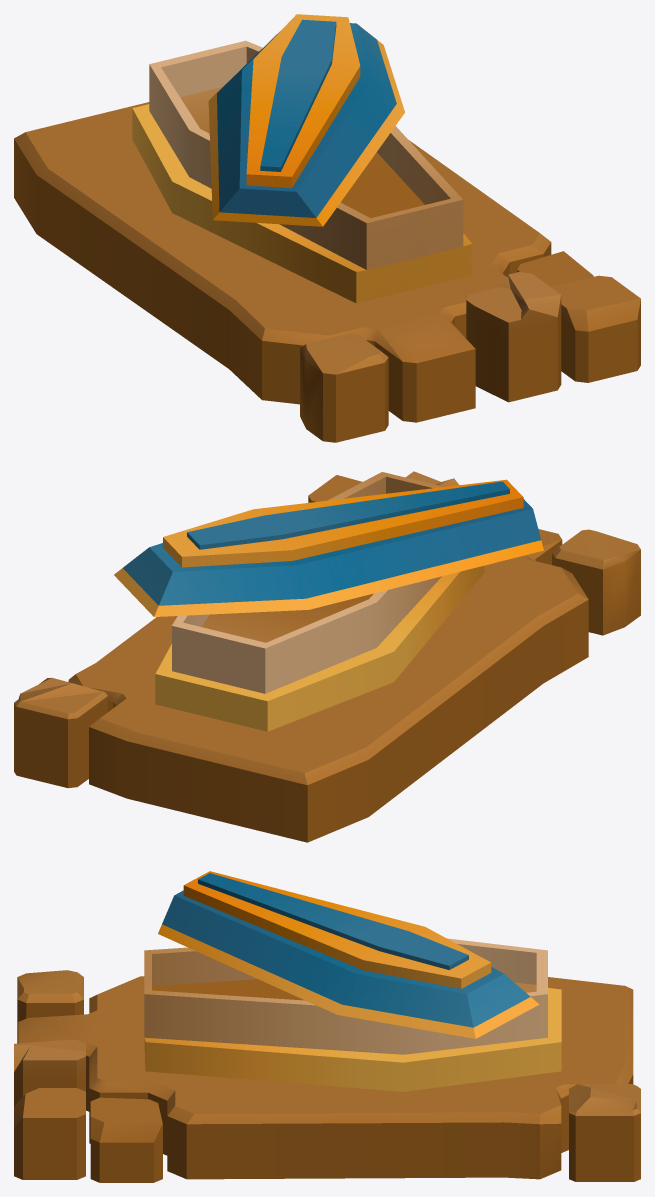
Rendered from Tomb_02.fbx.
3 renders of one model, top to bottom at view 1: azimuth 30°, elevation 25°; view 2: azimuth 150°, elevation 25°; view 3: azimuth 270°, elevation 25°, orthographic. The views are drawn at different scales.
Visible parts, largest first — view 1: Tomb Base 01, Tomb 02, Tomb 02 Cover; view 2: Tomb Base 01, Tomb 02 Cover, Tomb 02; view 3: Tomb Base 01, Tomb 02, Tomb 02 Cover.
Boxes of the visible parts, box(x1,y1,x2,y2) form: Tomb Base 01: box(14, 102, 640, 442); Tomb 02: box(132, 40, 472, 303); Tomb 02 Cover: box(208, 14, 404, 226); Tomb Base 01: box(14, 471, 640, 842); Tomb 02 Cover: box(114, 479, 543, 616); Tomb 02: box(155, 472, 484, 731); Tomb Base 01: box(14, 970, 640, 1182); Tomb 02: box(144, 938, 561, 1091); Tomb 02 Cover: box(158, 871, 539, 1038).
Size of the model in its own units: 219 by 124 by 390.
